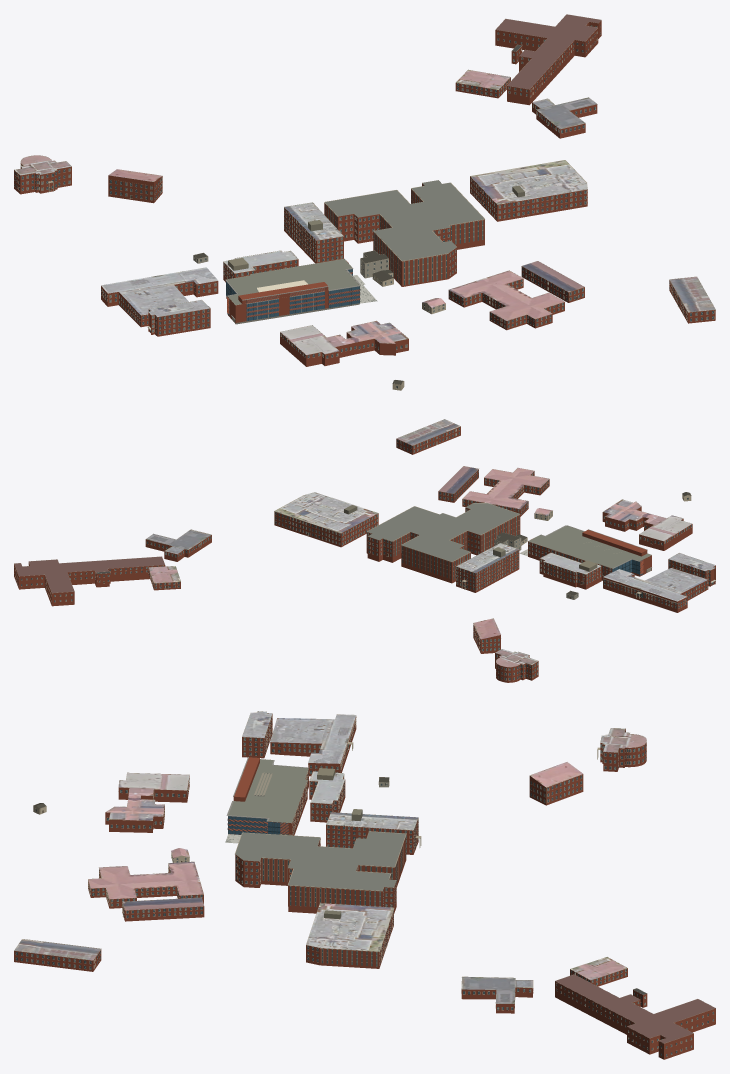
3 views of the same model, one above another, from view 1: azimuth 30°, elevation 25°; view 2: azimuth 150°, elevation 25°; view 3: azimuth 270°, elevation 25° (orthographic). The views are drawn at different scales.
Visible parts, largest first — view 1: -3_0_187869326_1, -3_0_318274786_12, -3_0_1244786202_20, -3_0_318273986_9; view 2: -3_0_187869326_1, -3_0_318274786_12, -3_0_318273986_9, -3_0_1244786202_20; view 3: -3_0_187869326_1, -3_0_318274786_12, -3_0_1244786202_20, -3_0_318273986_9.
Boxes of the visible parts, x1,y1,x2,y2 form: -3_0_187869326_1: [14, 14, 715, 388]; -3_0_318274786_12: [194, 14, 600, 384]; -3_0_1244786202_20: [225, 260, 377, 324]; -3_0_318273986_9: [150, 190, 483, 331]; -3_0_187869326_1: [14, 419, 715, 682]; -3_0_318274786_12: [14, 492, 690, 595]; -3_0_318273986_9: [393, 516, 713, 597]; -3_0_1244786202_20: [519, 525, 651, 575]; -3_0_187869326_1: [14, 711, 715, 1059]; -3_0_318274786_12: [34, 759, 715, 1043]; -3_0_1244786202_20: [225, 757, 308, 843]; -3_0_318273986_9: [263, 744, 406, 966].
Size of the model in its own units: 565 by 28.95 by 513.
Materials: 26 (1 with a texture image).
